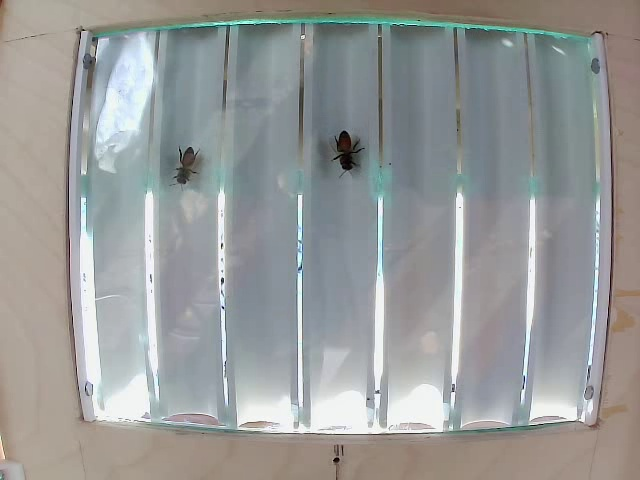bee: (321, 133, 358, 171), (174, 145, 201, 186)
